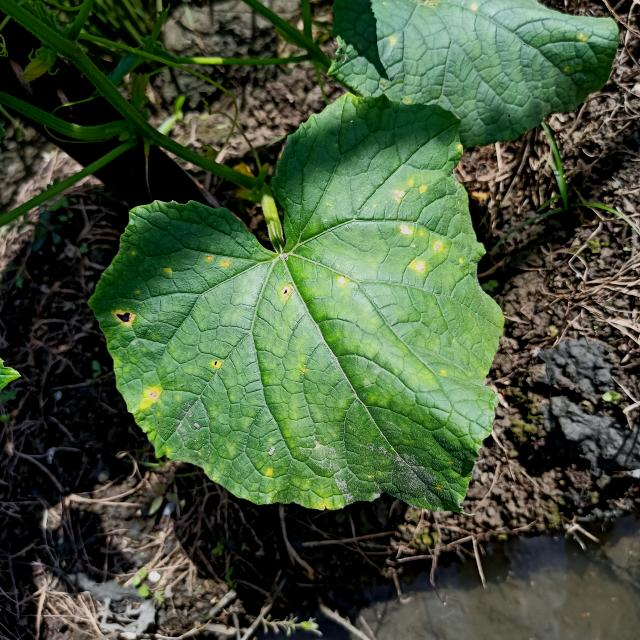disease_cucumber: (390, 176, 444, 274), (138, 386, 162, 413), (112, 308, 138, 329), (204, 253, 236, 270), (279, 285, 291, 300), (337, 274, 348, 288), (212, 360, 221, 370)
